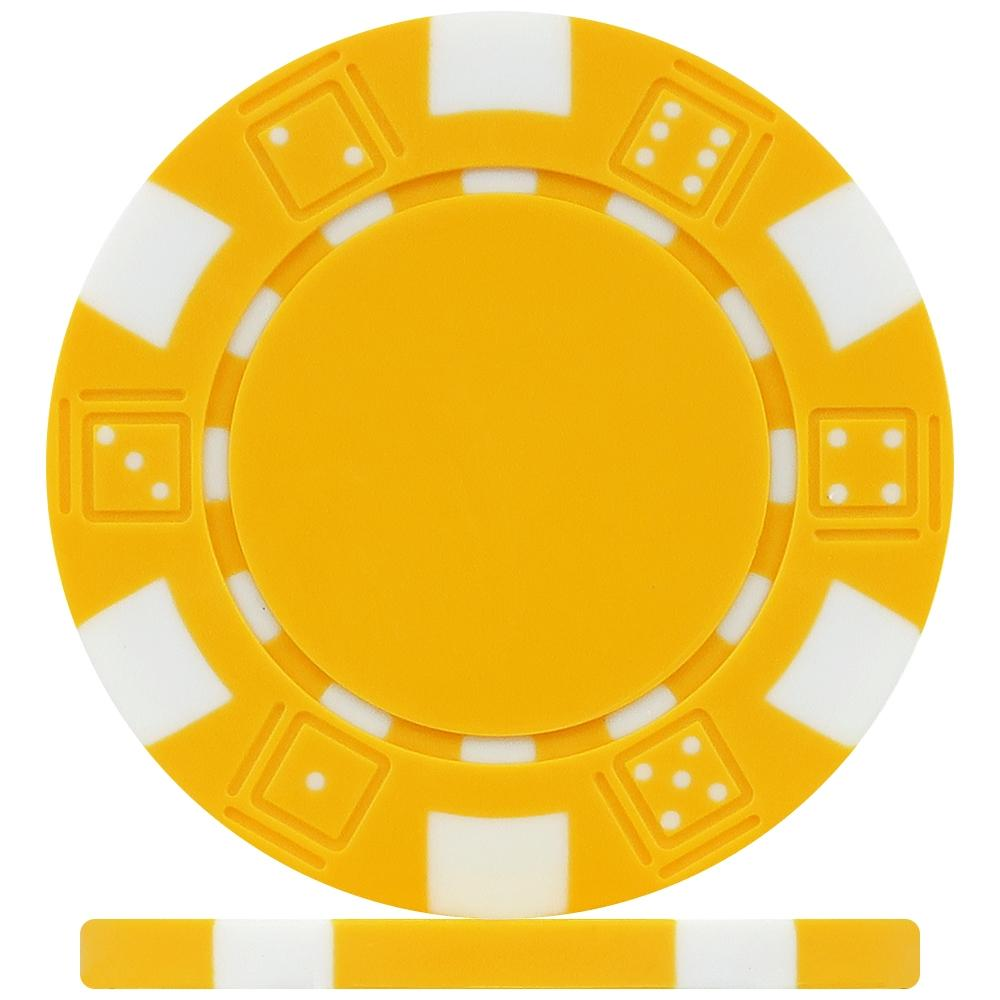chip-yellow: (47, 14, 953, 918), (80, 920, 920, 988)
